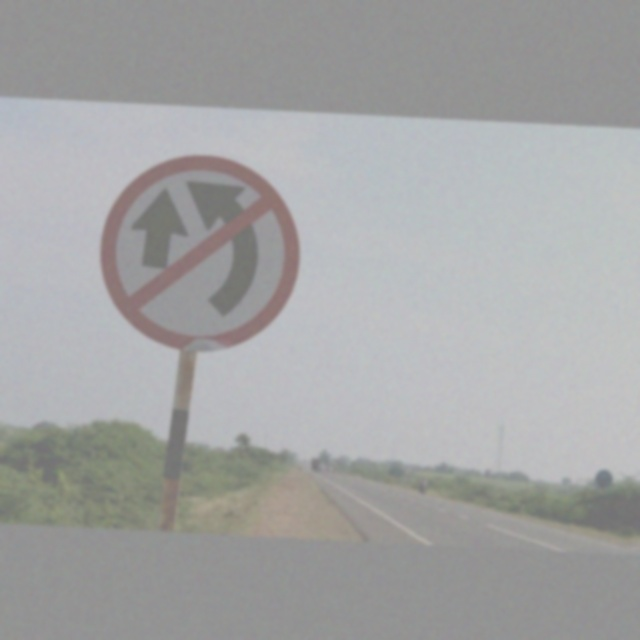Overtaking_Prohibited: (98, 150, 302, 358)
